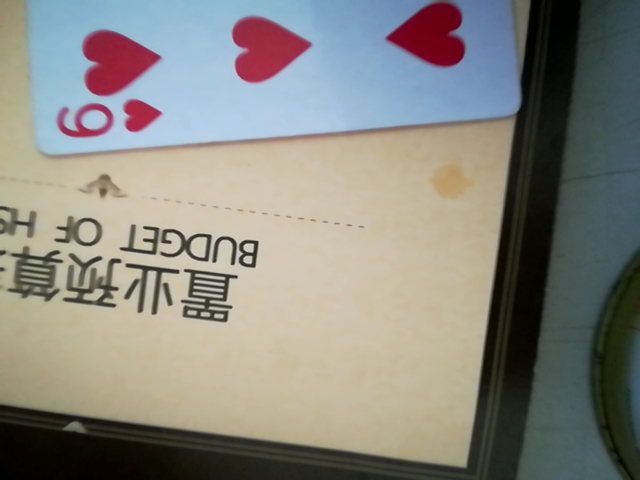hx 6: (22, 0, 535, 150)
